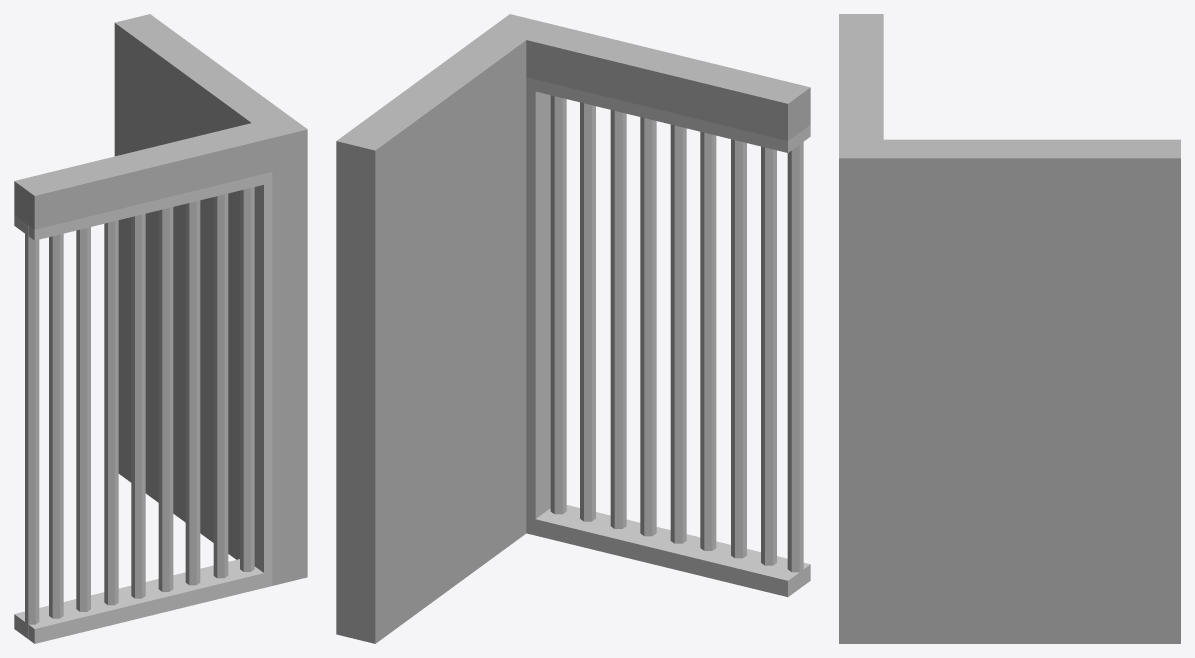
File: P_Jail_Wall_Corner_Inside_2.fbx
The picture shows the model from 3 angles, left to right: view 1: azimuth 30°, elevation 25°; view 2: azimuth 150°, elevation 25°; view 3: azimuth 270°, elevation 25°; orthographic projection. The views are drawn at different scales.
Visible parts, largest first — view 1: P_Jail_Wall_Corner_Inside_2; view 2: P_Jail_Wall_Corner_Inside_2; view 3: P_Jail_Wall_Corner_Inside_2.
Part boxes in pixels (<box>): P_Jail_Wall_Corner_Inside_2: <box>14,14,307,643</box>; P_Jail_Wall_Corner_Inside_2: <box>336,14,810,643</box>; P_Jail_Wall_Corner_Inside_2: <box>839,14,1180,643</box>.
Bounding box in the file's own units: 1000 × 1000 × 1568.
